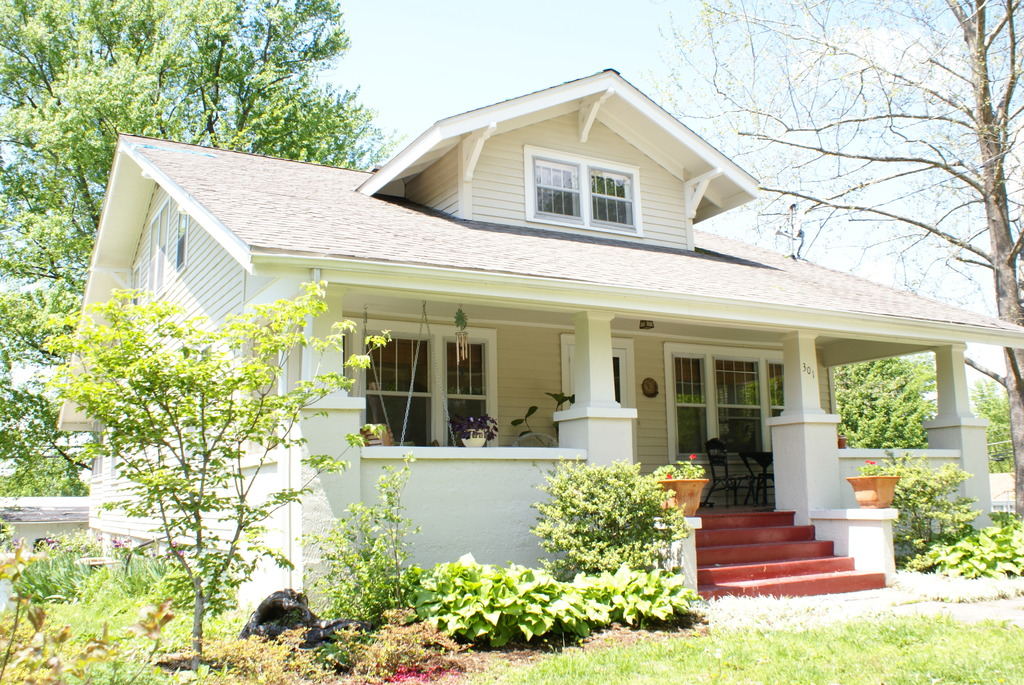Tree: (637, 0, 1024, 527), (0, 0, 404, 502), (41, 276, 391, 668)
